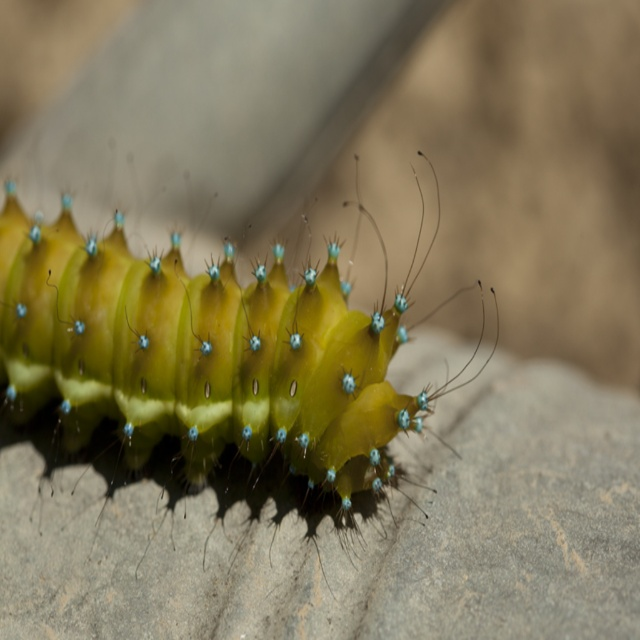Caterpillar: (0, 143, 501, 606)
